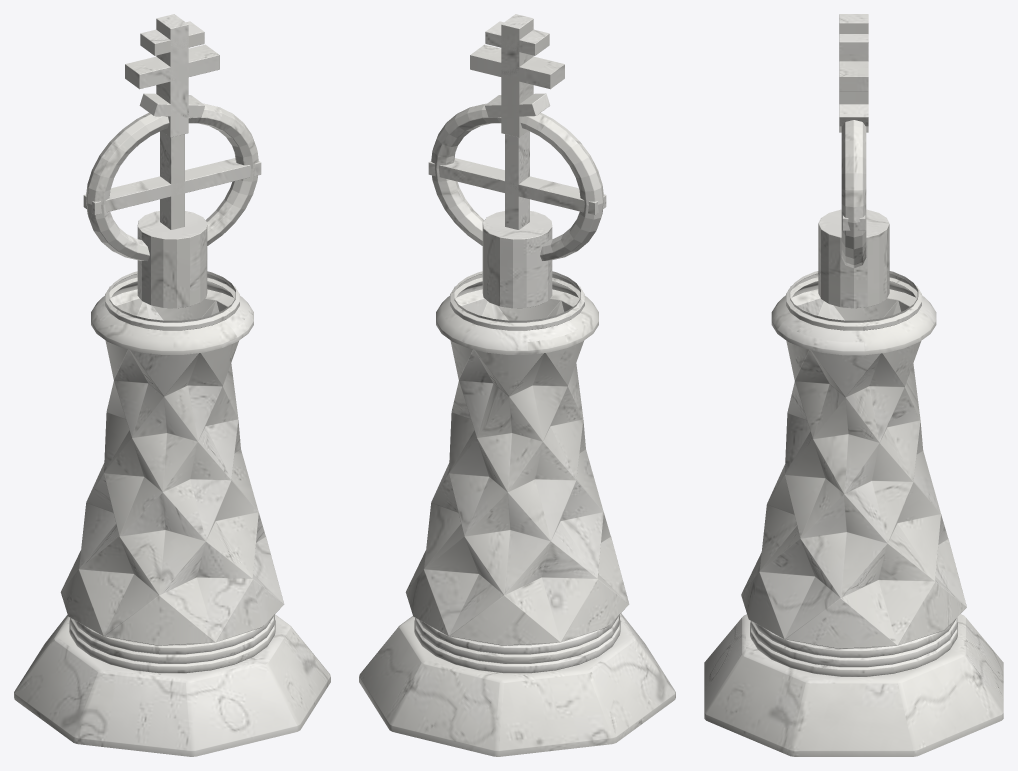
File: marker-monastery.glb
The picture shows the model from 3 angles, left to right: view 1: azimuth 30°, elevation 25°; view 2: azimuth 150°, elevation 25°; view 3: azimuth 270°, elevation 25°; orthographic projection.
Visible parts, largest first — view 1: Marker_Monastery_LOD1; view 2: Marker_Monastery_LOD1; view 3: Marker_Monastery_LOD1.
Part boxes in pixels (x1,y1,x2,y2): Marker_Monastery_LOD1: (14,14,330,756); Marker_Monastery_LOD1: (359,14,675,756); Marker_Monastery_LOD1: (704,14,1003,756).
Size of the model in its own units: 0.4619 by 1.15 by 0.4619.
1 material, 1 textured.
